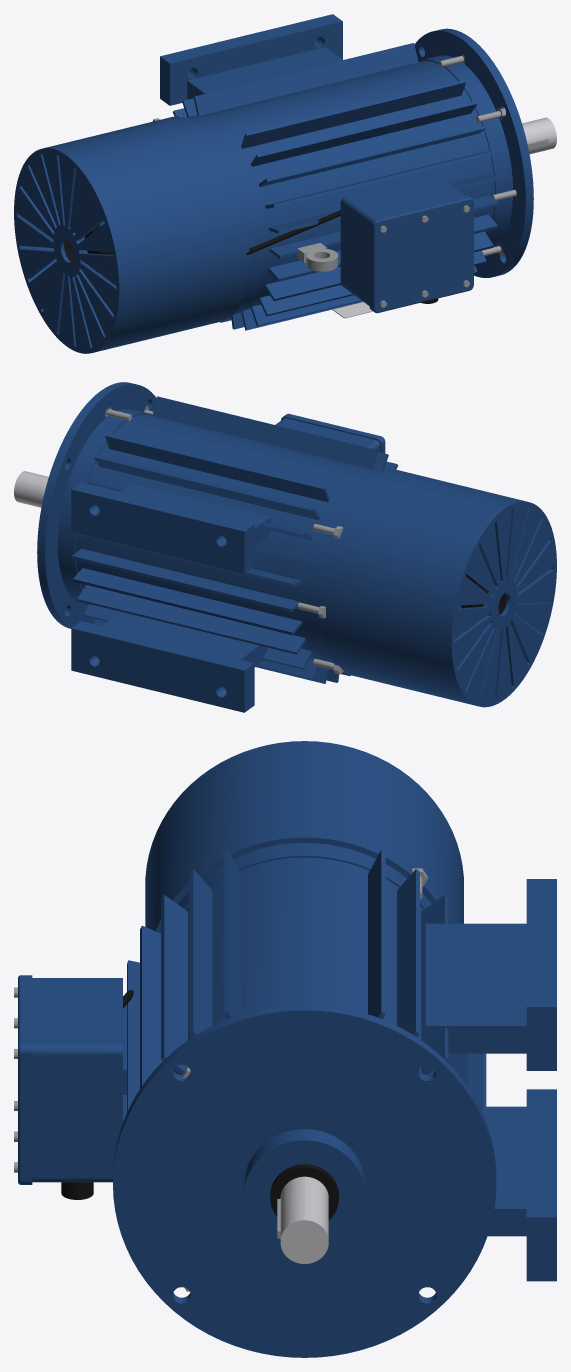
Rendered from servo-motor-9000.glb.
3 renders of one model, top to bottom at view 1: azimuth 30°, elevation 25°; view 2: azimuth 150°, elevation 25°; view 3: azimuth 270°, elevation 25°, orthographic. The views are drawn at different scales.
Parts seen in each view (by area): view 1: Motor Frame (Finned), Fan Cowl, Terminal Box Lid, Drive-End Spigot Flange, Terminal Box Base, Drive-End Bell, Non-Drive-End Bell, Lifting Eye, SHF-9000 Precision Motor Shaft, Encoder Cable; view 2: Motor Frame (Finned), Fan Cowl, Drive-End Spigot Flange, Drive-End Bell, Non-Drive-End Bell, Terminal Box Base, SHF-9000 Precision Motor Shaft, Terminal Box Lid; view 3: Drive-End Spigot Flange, Motor Frame (Finned), Fan Cowl, Terminal Box Base, Drive-End Bell, SHF-9000 Precision Motor Shaft, Terminal Box Lid, Non-Drive-End Bell, SEAL-VR-45 V-Ring Seal DE.
Boxes of the visible parts, box(x1,y1,x2,y2) form: Motor Frame (Finned): box(160, 14, 499, 330); Fan Cowl: box(14, 116, 249, 353); Terminal Box Lid: box(369, 195, 473, 313); Drive-End Spigot Flange: box(414, 28, 533, 277); Terminal Box Base: box(340, 174, 464, 305); Drive-End Bell: box(418, 55, 512, 246); Non-Drive-End Bell: box(186, 116, 264, 314); Lifting Eye: box(297, 243, 338, 271); SHF-9000 Precision Motor Shaft: box(522, 117, 556, 154); Encoder Cable: box(246, 210, 341, 254); Motor Frame (Finned): box(71, 396, 398, 712); Fan Cowl: box(321, 469, 556, 707); Drive-End Spigot Flange: box(37, 382, 156, 628); Drive-End Bell: box(58, 409, 152, 606); Non-Drive-End Bell: box(306, 469, 384, 662); Terminal Box Base: box(275, 418, 380, 451); SHF-9000 Precision Motor Shaft: box(14, 471, 48, 507); Terminal Box Lid: box(281, 413, 385, 453); Drive-End Spigot Flange: box(113, 1004, 496, 1357); Motor Frame (Finned): box(123, 849, 556, 1281); Fan Cowl: box(145, 741, 463, 933); Terminal Box Base: box(32, 978, 122, 1182); Drive-End Bell: box(244, 1129, 365, 1245); SHF-9000 Precision Motor Shaft: box(280, 1176, 328, 1263); Terminal Box Lid: box(18, 975, 32, 1184); Non-Drive-End Bell: box(178, 843, 431, 909); SEAL-VR-45 V-Ring Seal DE: box(270, 1164, 338, 1220).
Bounding box in the file's own units: 836 × 380 × 538.
